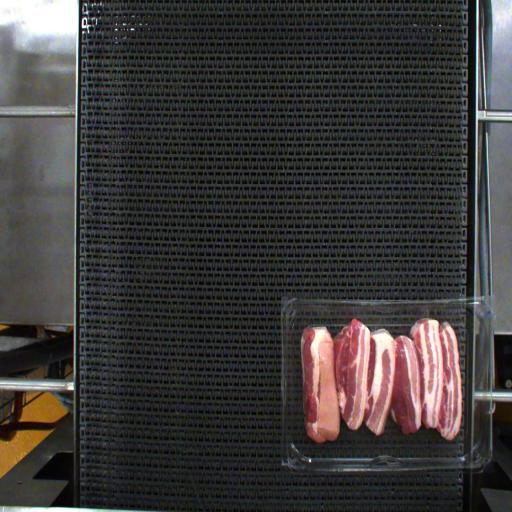twisted-meat: (300, 316, 339, 454)
